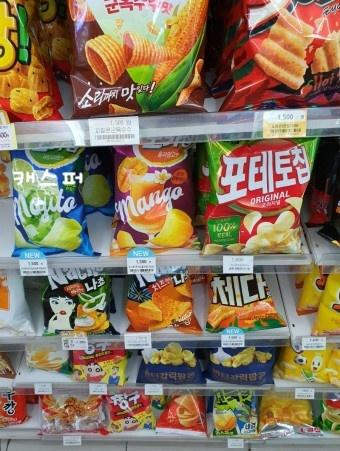snack: (201, 135, 320, 255)
